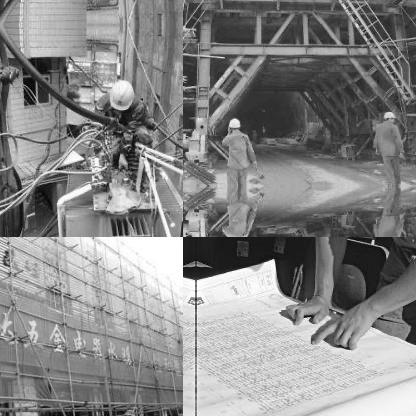Helmet: (106, 76, 136, 112), (227, 114, 241, 132), (119, 405, 138, 415), (382, 108, 394, 122), (176, 410, 182, 415)
